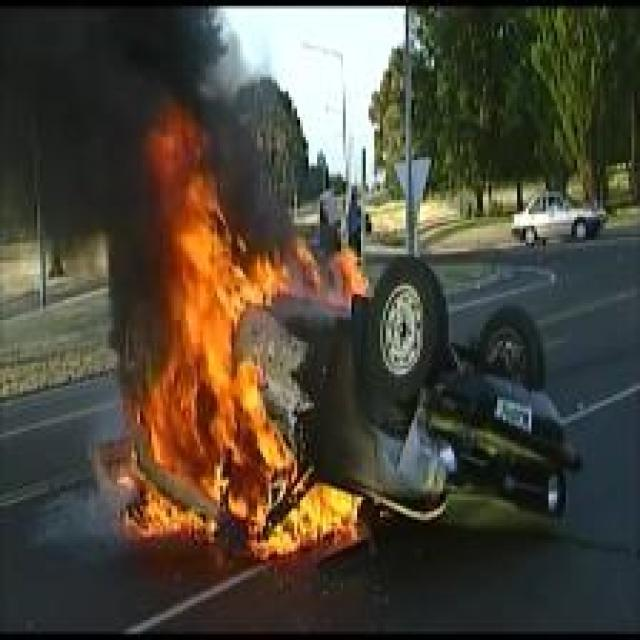Fire: (116, 101, 376, 562)
